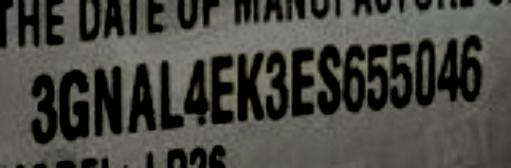letter: (124, 59, 158, 134), (92, 62, 126, 137), (57, 65, 91, 140), (289, 43, 320, 119), (314, 41, 345, 116), (235, 50, 266, 122), (155, 56, 186, 128), (28, 72, 59, 144), (207, 50, 235, 126), (181, 57, 212, 125), (339, 38, 367, 113), (365, 38, 393, 113), (387, 37, 415, 109), (460, 31, 488, 99), (434, 34, 462, 102), (263, 50, 291, 118), (413, 35, 438, 110)
